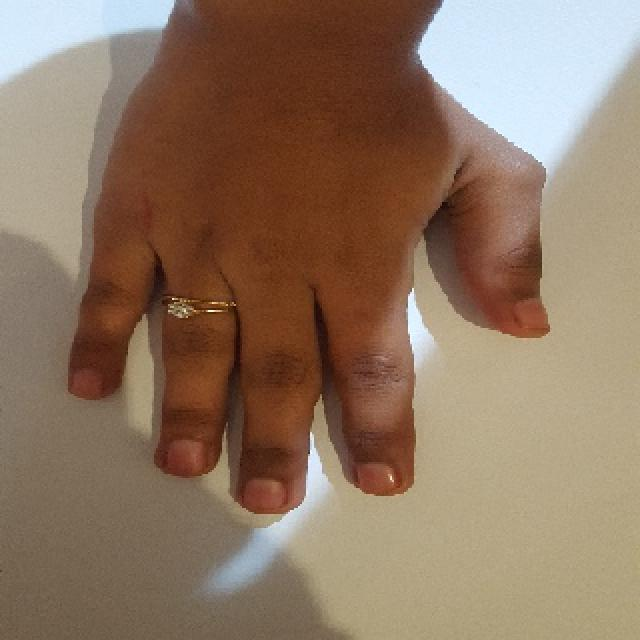Nail: (242, 478, 288, 513), (354, 461, 400, 495), (168, 438, 206, 475), (515, 298, 551, 331), (69, 369, 102, 399)
